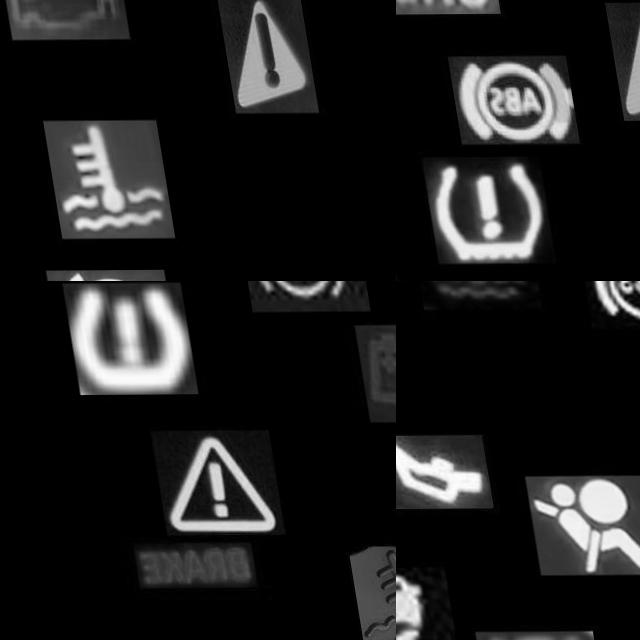Central Warning lamp: (137, 431, 268, 536), (213, 0, 311, 113), (602, 3, 640, 121)
Engine cooling system: (35, 120, 163, 239), (330, 546, 396, 640), (407, 281, 537, 310)
